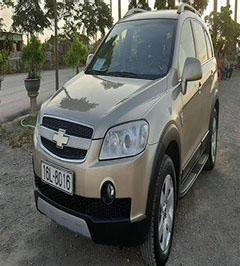car: (13, 3, 236, 262)
